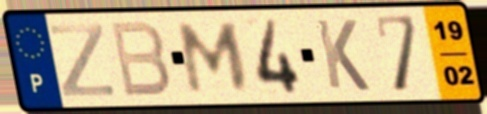4: (252, 16, 304, 97)
7: (374, 13, 420, 94)
B: (107, 19, 174, 100)
K: (312, 17, 373, 94)
M: (176, 21, 251, 96)
Z: (47, 21, 117, 99)
